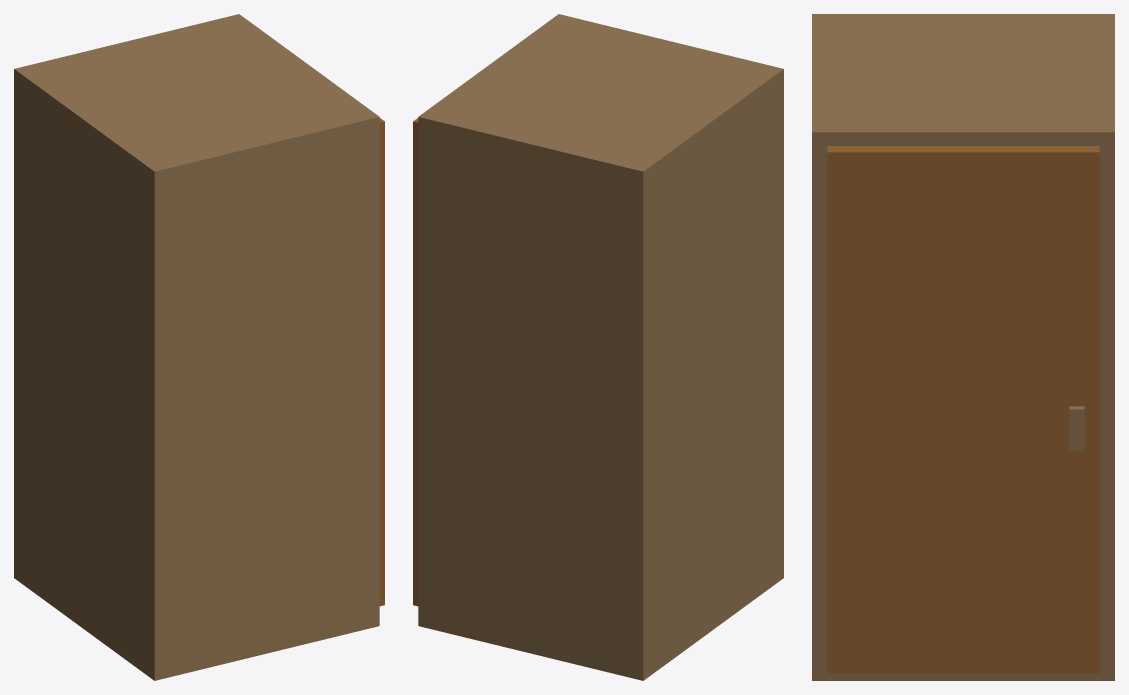
The model's file is wardrobe.obj.
The picture shows the model from 3 angles, left to right: view 1: azimuth 30°, elevation 25°; view 2: azimuth 150°, elevation 25°; view 3: azimuth 270°, elevation 25°; orthographic projection. The views are drawn at different scales.
Visible parts, largest first — view 1: wardrobe; view 2: wardrobe; view 3: wardrobe.
Boxes of the visible parts, left/top/right/bottom form: wardrobe: left=14, top=14, right=384, bottom=680; wardrobe: left=413, top=14, right=783, bottom=680; wardrobe: left=812, top=14, right=1114, bottom=680.
Bounding box in the file's own units: 40 × 80 × 40.
1 material, 1 textured.
